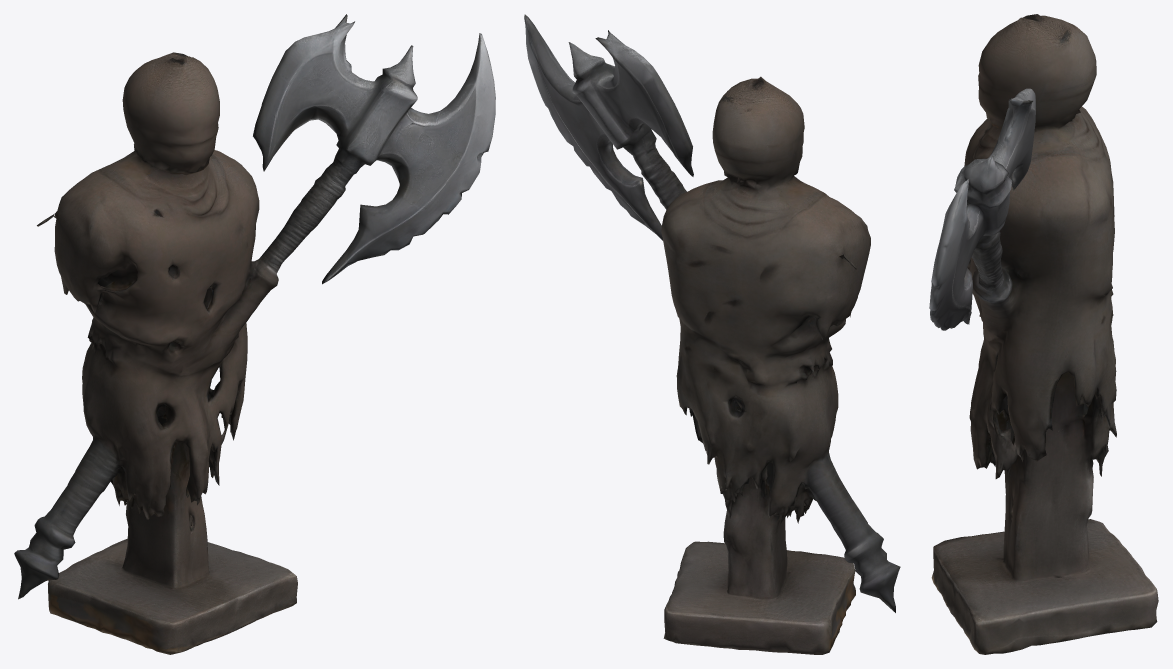
Rendered from weapon_axe_in_dummy.glb.
3 views of the same model, side by side, from view 1: azimuth 30°, elevation 25°; view 2: azimuth 150°, elevation 25°; view 3: azimuth 270°, elevation 25° (orthographic). The views are drawn at different scales.
Size of the model in its own units: 1.62 by 2 by 0.6963.
1 material, 1 textured.
